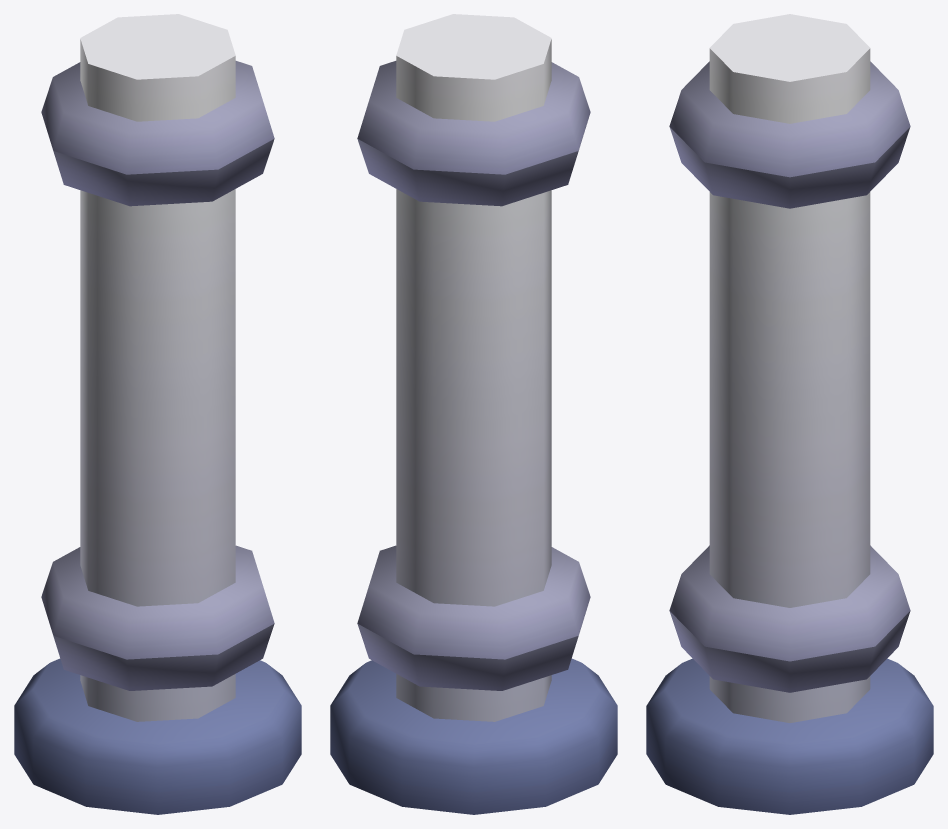
The model's file is kenney-space-modular-template-detail.glb.
3 renders of one model, left to right at view 1: azimuth 30°, elevation 25°; view 2: azimuth 150°, elevation 25°; view 3: azimuth 270°, elevation 25°, orthographic.
Parts seen in each view (by area): view 1: template-detail; view 2: template-detail; view 3: template-detail.
Boxes of the visible parts, left/top/right/bottom form: template-detail: left=14, top=14, right=301, bottom=814; template-detail: left=330, top=14, right=617, bottom=814; template-detail: left=646, top=14, right=933, bottom=814.
Size of the model in its own units: 1.56 by 4.23 by 1.56.
Materials: 1 (1 with a texture image).
